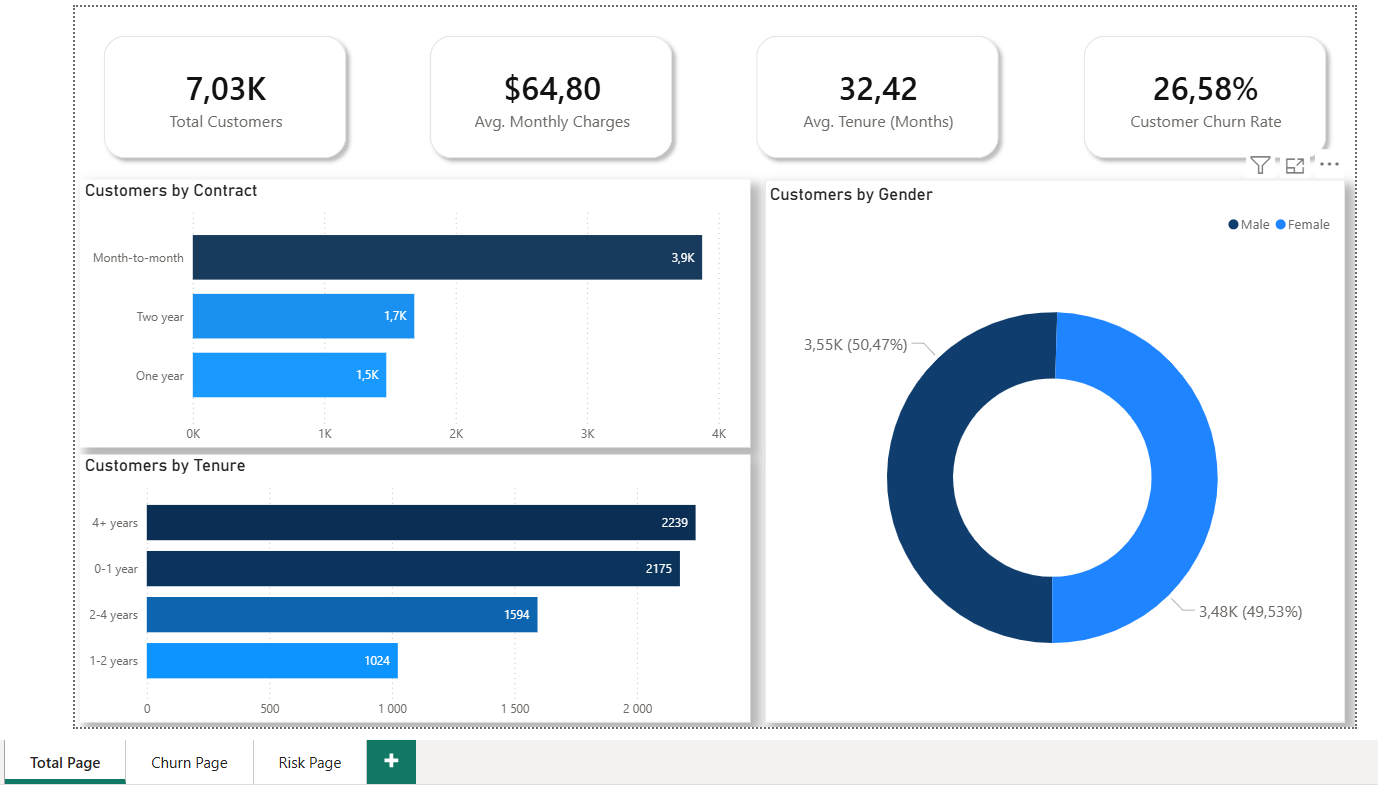

The dashboard page shown, as its layout file describes it:
{"tool":"powerbi","page":{"name":"Total Page","canvas":[1280,720],"ordinal":0},"visuals":[{"type":"cardVisual","fields":{"Data":["CountNonNull(churn_final.Churn)"]},"box":[0,0,300,180],"z":0},{"type":"cardVisual","fields":{"Data":["churn_final.churn_percent"]},"box":[980,0,300,180],"z":1000},{"type":"cardVisual","fields":{"Data":["Avg(churn_final.MonthlyCharges)"]},"box":[326,0,300,180],"z":2000},{"type":"cardVisual","fields":{"Data":["Avg(churn_final.tenure)"]},"box":[653,0,300,180],"z":3000},{"type":"barChart","fields":{"Category":["churn_final.Contract"],"Y":["CountNonNull(churn_final.Churn)"]},"box":[5,172.9,670,268],"z":4000},{"type":"barChart","fields":{"Y":["CountNonNull(churn_final.Churn)"],"Category":["churn_final.tenure_group"]},"box":[5,447,670,268],"z":5000},{"type":"donutChart","fields":{"Category":["churn_final.gender"],"Y":["CountNonNull(churn_final.Churn)"]},"box":[690,172.9,580,543],"z":6000}]}

Visuals, with their boxes on the page's 1280x720 design canvas (x1, y1, x2, y2). These are canvas units, not pixel positions in the 1378x785 screenshot, which may show the page scaled, cropped or inside an application window:
cardVisual - CountNonNull(churn_final.Churn): rect(0, 0, 300, 180)
cardVisual - churn_final.churn_percent: rect(980, 0, 1280, 180)
cardVisual - Avg(churn_final.MonthlyCharges): rect(326, 0, 626, 180)
cardVisual - Avg(churn_final.tenure): rect(653, 0, 953, 180)
barChart - churn_final.Contract x CountNonNull(churn_final.Churn): rect(5, 173, 675, 441)
barChart - CountNonNull(churn_final.Churn) x churn_final.tenure_group: rect(5, 447, 675, 715)
donutChart - churn_final.gender x CountNonNull(churn_final.Churn): rect(690, 173, 1270, 716)
